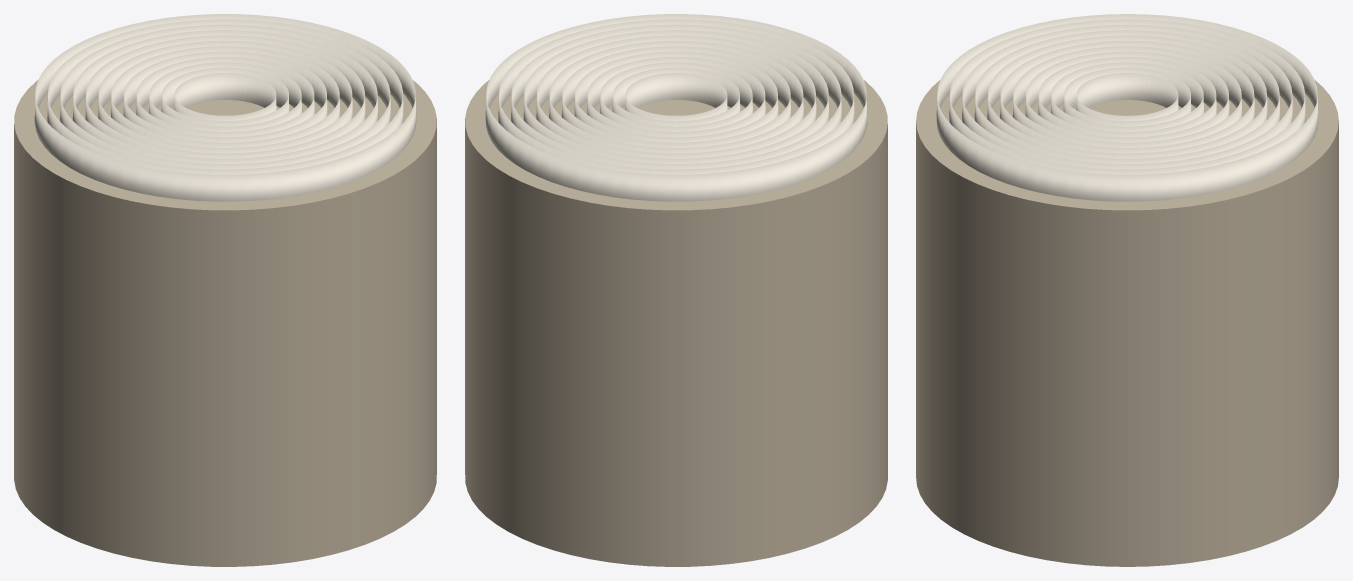
File: rug-15-5.glb
3 views of the same model, side by side, from view 1: azimuth 30°, elevation 25°; view 2: azimuth 150°, elevation 25°; view 3: azimuth 270°, elevation 25° (orthographic).
Visible parts, largest first — view 1: part (×2); view 2: part (×2); view 3: part (×2).
Boxes of the visible parts, x1,y1,x2,y2 form: part (×2): [14, 14, 436, 566]; part (×2): [465, 14, 887, 566]; part (×2): [916, 14, 1338, 566].
Size of the model in its own units: 1 by 1 by 1.
